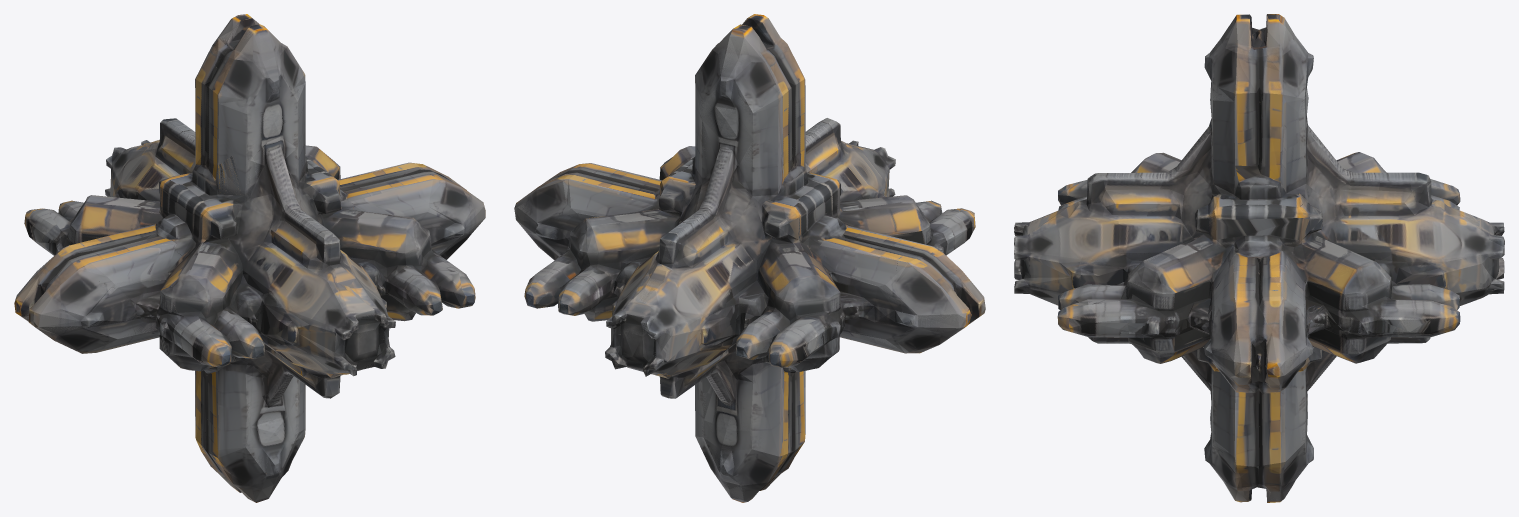
The model's file is Nave Lenta .fbx.
3 renders of one model, left to right at view 1: azimuth 30°, elevation 25°; view 2: azimuth 150°, elevation 25°; view 3: azimuth 270°, elevation 25°, orthographic. The views are drawn at different scales.
Visible parts, largest first — view 1: Lento, Lento_cell.077, Lento_cell.063, Lento_cell.012, Lento_cell.036, Lento_cell.071, Lento_cell.019, Lento_cell.037, Lento_cell.103, Lento_cell.017, Lento_cell.055, Lento_cell.009 (+11 smaller); view 2: Lento, Lento_cell.077, Lento_cell.009, Lento_cell.059, Lento_cell.024, Lento_cell.012, Lento_cell.063, Lento_cell.083, Lento_cell.091, Lento_cell.006, Lento_cell.029, Lento_cell.026 (+17 smaller); view 3: Lento, Lento_cell.071, Lento_cell.012, Lento_cell.051, Lento_cell.018, Lento_cell.042, Lento_cell.017, Lento_cell.004, Lento_cell.008, Lento_cell.083, Lento_cell.019, Lento_cell.053 (+17 smaller).
Boxes of the visible parts, box(x1,y1,x2,y2) form: Lento: box(21, 18, 485, 502); Lento_cell.077: box(14, 244, 98, 353); Lento_cell.063: box(270, 204, 353, 303); Lento_cell.012: box(213, 14, 305, 114); Lento_cell.036: box(172, 155, 268, 256); Lento_cell.071: box(254, 151, 377, 237); Lento_cell.019: box(368, 166, 447, 218); Lento_cell.037: box(215, 360, 298, 435); Lento_cell.103: box(88, 284, 135, 352); Lento_cell.017: box(340, 279, 395, 344); Lento_cell.055: box(99, 279, 166, 337); Lento_cell.009: box(112, 172, 169, 201); Lento: box(514, 20, 980, 502); Lento_cell.077: box(896, 246, 985, 353); Lento_cell.009: box(692, 248, 778, 333); Lento_cell.059: box(695, 383, 798, 489); Lento_cell.024: box(813, 276, 908, 368); Lento_cell.012: box(698, 14, 799, 73); Lento_cell.063: box(805, 119, 871, 177); Lento_cell.083: box(695, 74, 793, 170); Lento_cell.091: box(631, 295, 698, 364); Lento_cell.006: box(777, 252, 897, 313); Lento_cell.029: box(543, 177, 604, 220); Lento_cell.026: box(755, 363, 793, 415); Lento: box(1014, 21, 1504, 502); Lento_cell.071: box(1135, 137, 1252, 263); Lento_cell.012: box(1204, 14, 1302, 112); Lento_cell.051: box(1241, 425, 1303, 502); Lento_cell.018: box(1268, 253, 1358, 326); Lento_cell.042: box(1204, 311, 1286, 378); Lento_cell.017: box(1014, 210, 1089, 280); Lento_cell.004: box(1258, 196, 1351, 257); Lento_cell.008: box(1367, 193, 1445, 245); Lento_cell.083: box(1211, 80, 1317, 146); Lento_cell.019: box(1212, 268, 1281, 326); Lento_cell.053: box(1208, 110, 1306, 242).
Bounding box in the file's own units: 191 × 191 × 175.
